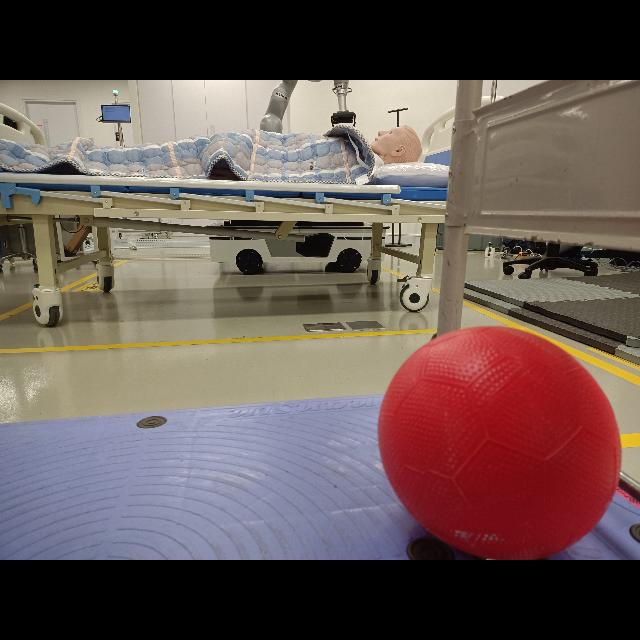R: (378, 326, 622, 560)
